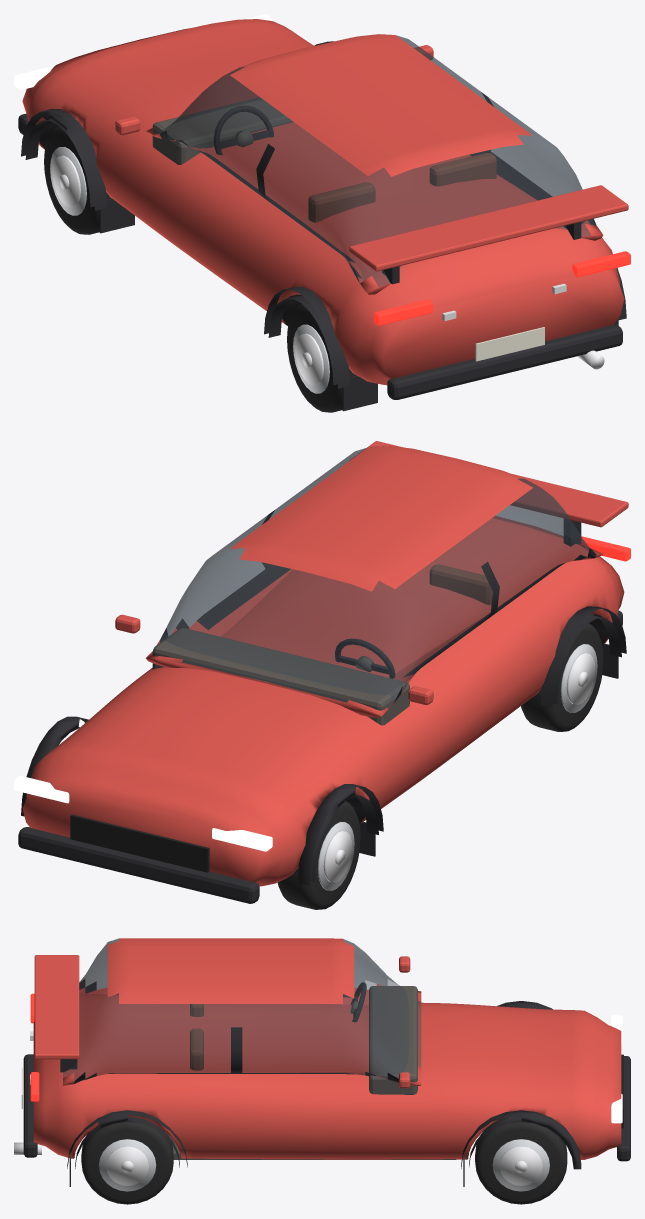
Rendered from rally.glb.
The picture shows the model from 3 angles, top to bottom: view 1: azimuth 30°, elevation 25°; view 2: azimuth 150°, elevation 25°; view 3: azimuth 270°, elevation 25°; orthographic projection. The views are drawn at different scales.
Visible parts, largest first — view 1: Body.006, Glass.006, Interior.006, Wheel_RL.006, Wheel_FL.006, Lights_Tail.006, SteeringWheel.006, Lights_Head.006; view 2: Body.006, Glass.006, Interior.006, Wheel_RL.006, Wheel_FL.006, Lights_Head.006, SteeringWheel.006, Lights_Tail.006; view 3: Body.006, Glass.006, Interior.006, Wheel_FR.006, Wheel_RR.006, Lights_Head.006, Lights_Tail.006, SteeringWheel.006.
Boxes of the visible parts, x1,y1,x2,y2 form: Body.006: [18, 19, 628, 411]; Glass.006: [154, 35, 596, 287]; Interior.006: [152, 97, 496, 222]; Wheel_RL.006: [287, 304, 356, 412]; Wheel_FL.006: [44, 126, 111, 234]; Lights_Tail.006: [374, 251, 630, 325]; SteeringWheel.006: [213, 105, 273, 154]; Lights_Head.006: [14, 14, 272, 89]; Body.006: [18, 441, 628, 903]; Glass.006: [157, 446, 589, 708]; Interior.006: [152, 564, 492, 725]; Wheel_RL.006: [521, 623, 603, 731]; Wheel_FL.006: [277, 799, 360, 909]; Lights_Head.006: [14, 776, 272, 851]; SteeringWheel.006: [335, 638, 395, 678]; Lights_Tail.006: [581, 536, 630, 561]; Body.006: [14, 938, 630, 1186]; Glass.006: [63, 938, 421, 1080]; Interior.006: [168, 986, 456, 1159]; Wheel_FR.006: [475, 1117, 567, 1204]; Wheel_RR.006: [81, 1116, 173, 1204]; Lights_Head.006: [611, 1015, 622, 1123]; Lights_Tail.006: [30, 993, 39, 1101]; SteeringWheel.006: [350, 982, 366, 1022].
Bounding box in the file's own units: 2.1 × 1.5 × 4.41.
